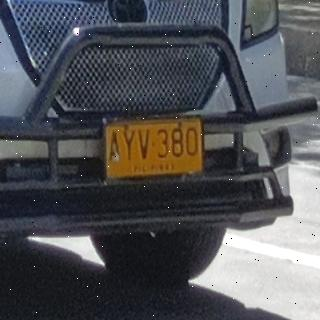license: (107, 119, 204, 179)
